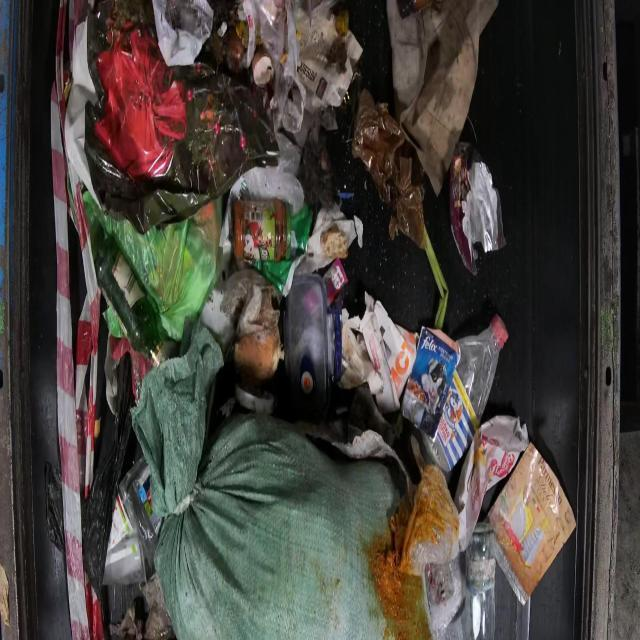other-trash: (48, 0, 571, 638)
